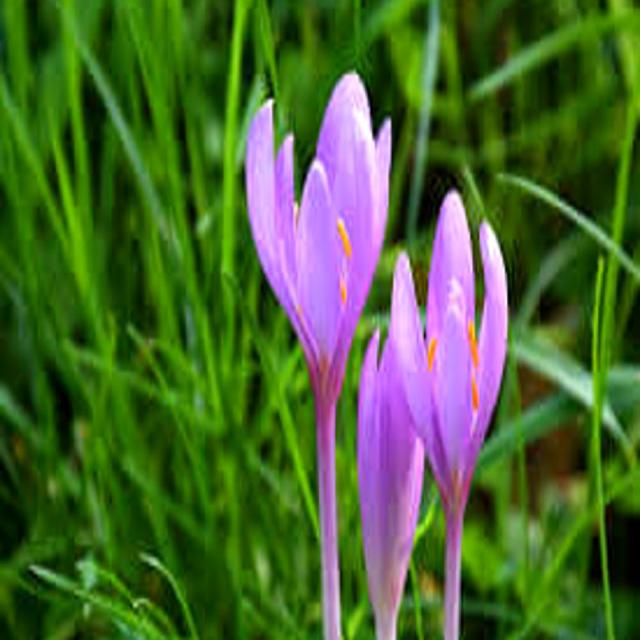saffron open: (246, 73, 391, 639), (391, 191, 508, 639)
